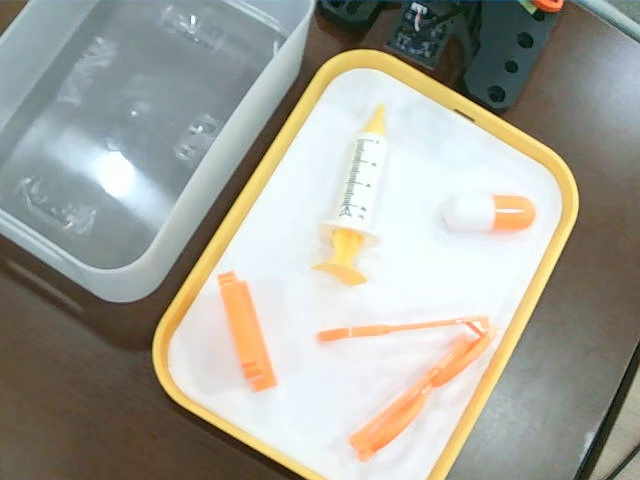pill: (443, 191, 537, 233)
syringe: (313, 103, 389, 289)
